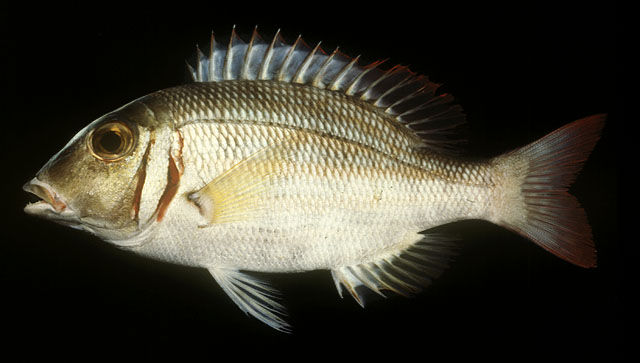fish: (22, 25, 604, 335)
